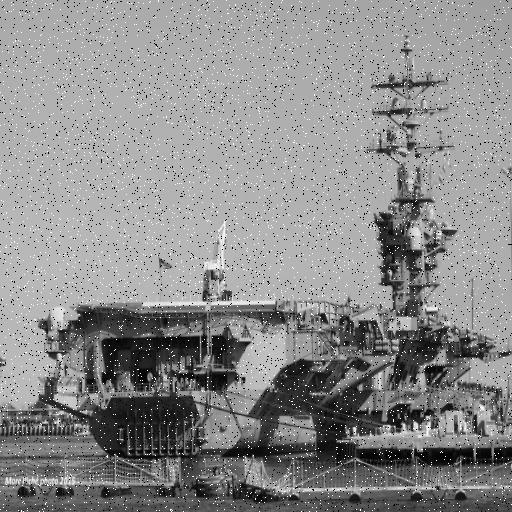Portanaves: (38, 6, 512, 468)
